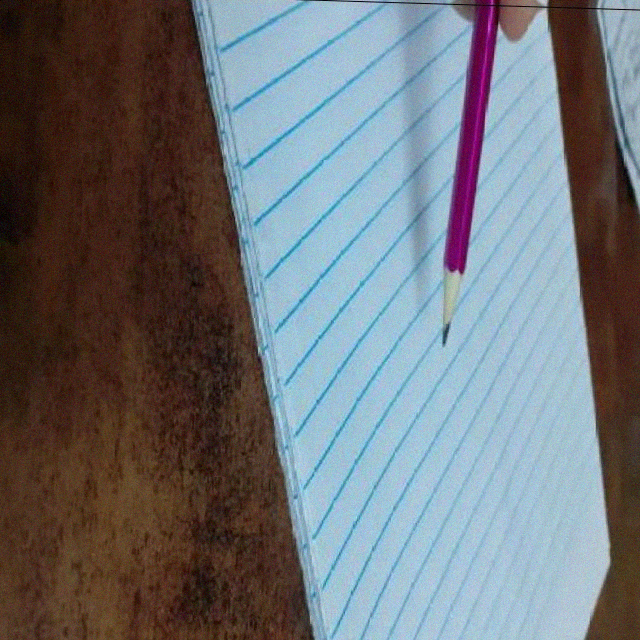pencil: (434, 269, 469, 349)
